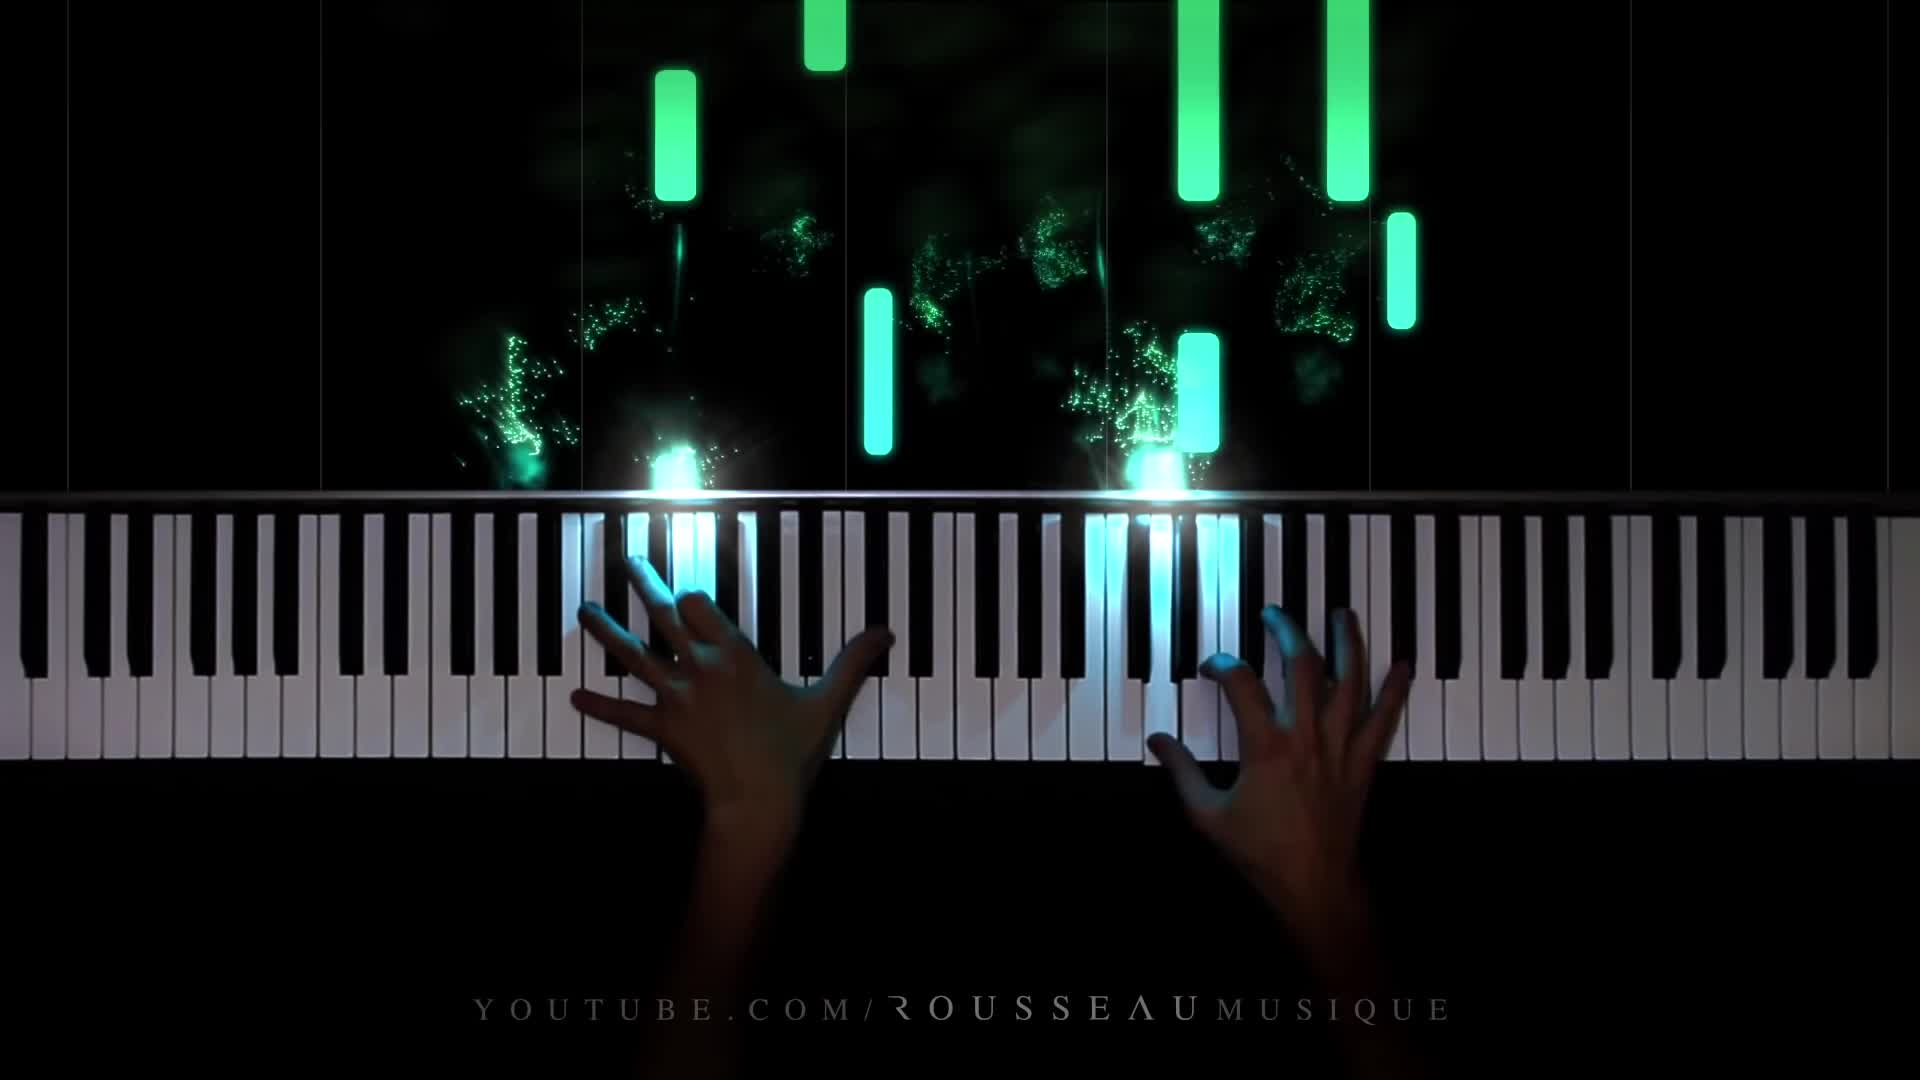left: (570, 553, 897, 808)
right: (1149, 605, 1418, 865)
